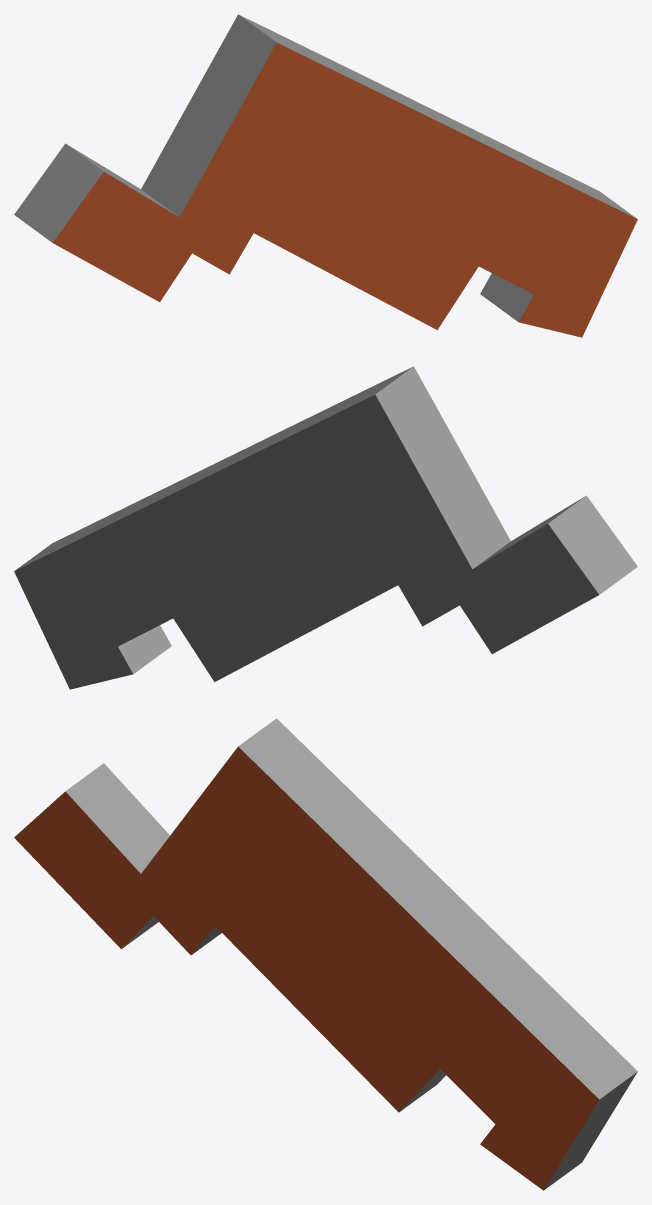
File: construction_0981_assumed_A_Casa_h6m.obj
The picture shows the model from 3 angles, top to bottom: view 1: azimuth 30°, elevation 25°; view 2: azimuth 150°, elevation 25°; view 3: azimuth 330°, elevation 25°; orthographic projection.
Visible parts, largest first — view 1: construction_0981_assumed_A_Casa; view 2: construction_0981_assumed_A_Casa; view 3: construction_0981_assumed_A_Casa.
Part boxes in pixels (box(x1,y1,x2,y2)): construction_0981_assumed_A_Casa: box(14, 14, 637, 337); construction_0981_assumed_A_Casa: box(14, 366, 637, 689); construction_0981_assumed_A_Casa: box(14, 718, 637, 1190).
Bounding box in the file's own units: 52.6 × 31.74 × 6.
